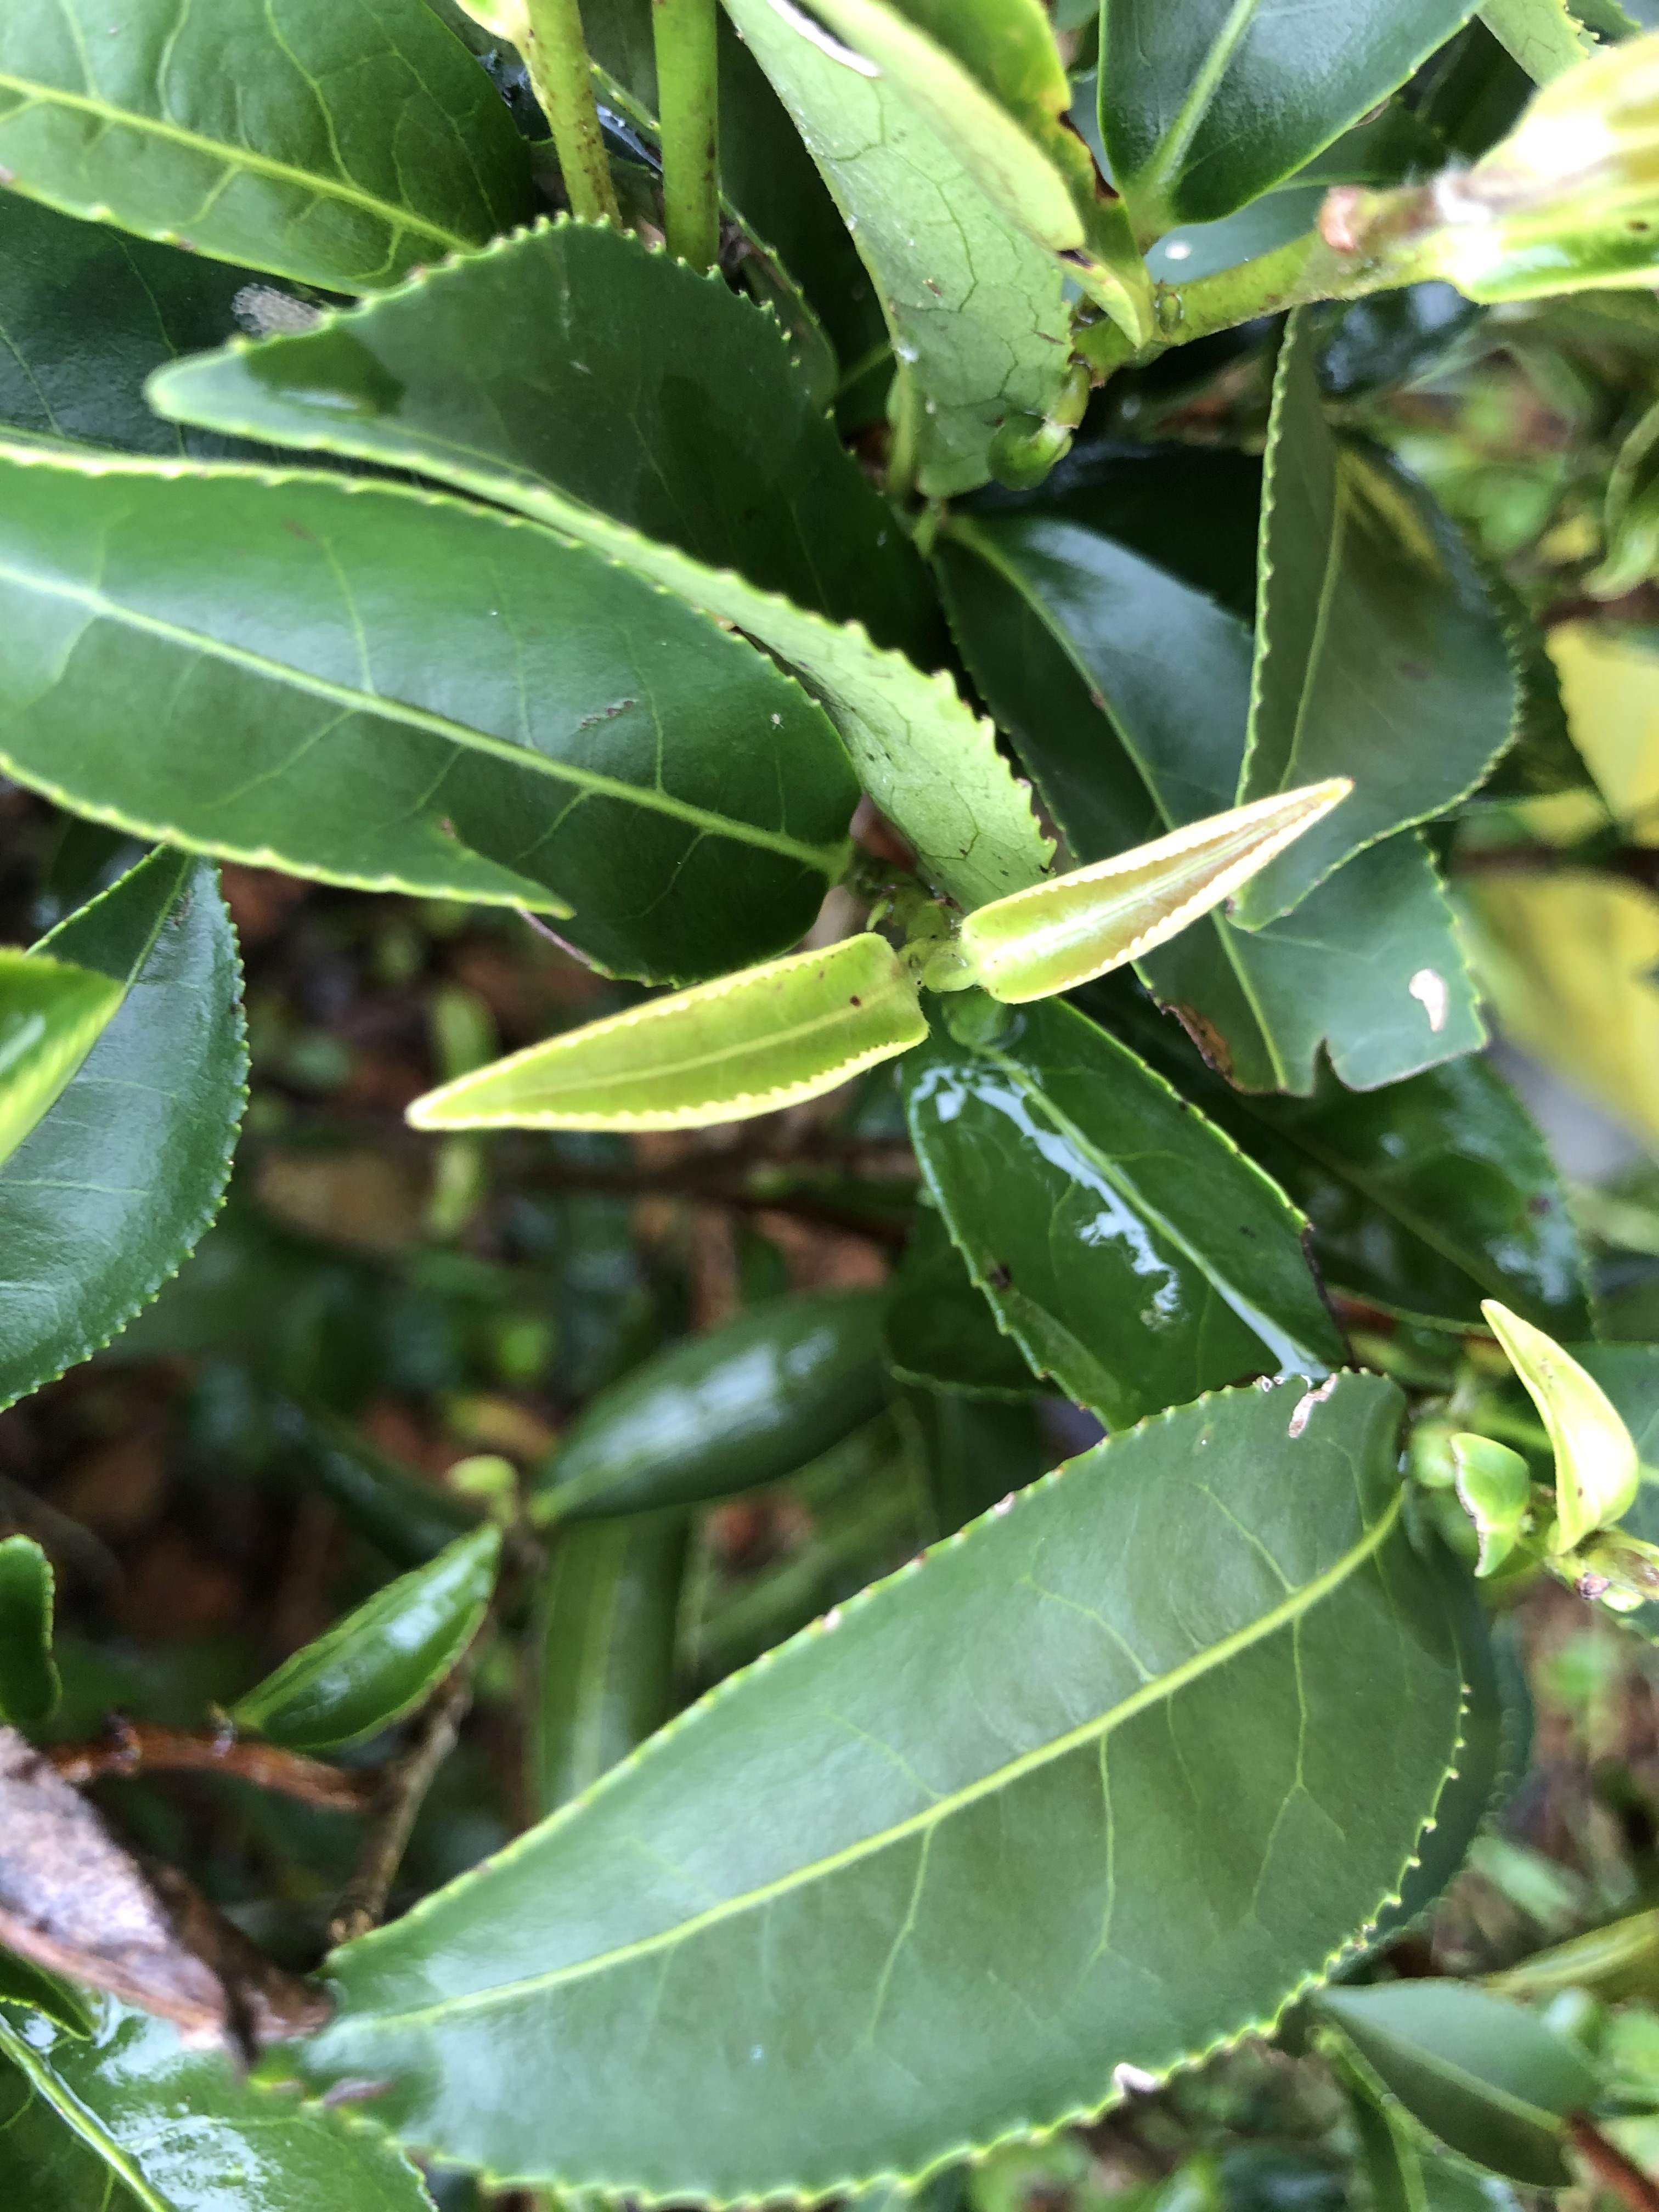formosa: (945, 766, 1347, 1008)
other: (1307, 178, 1431, 254)
